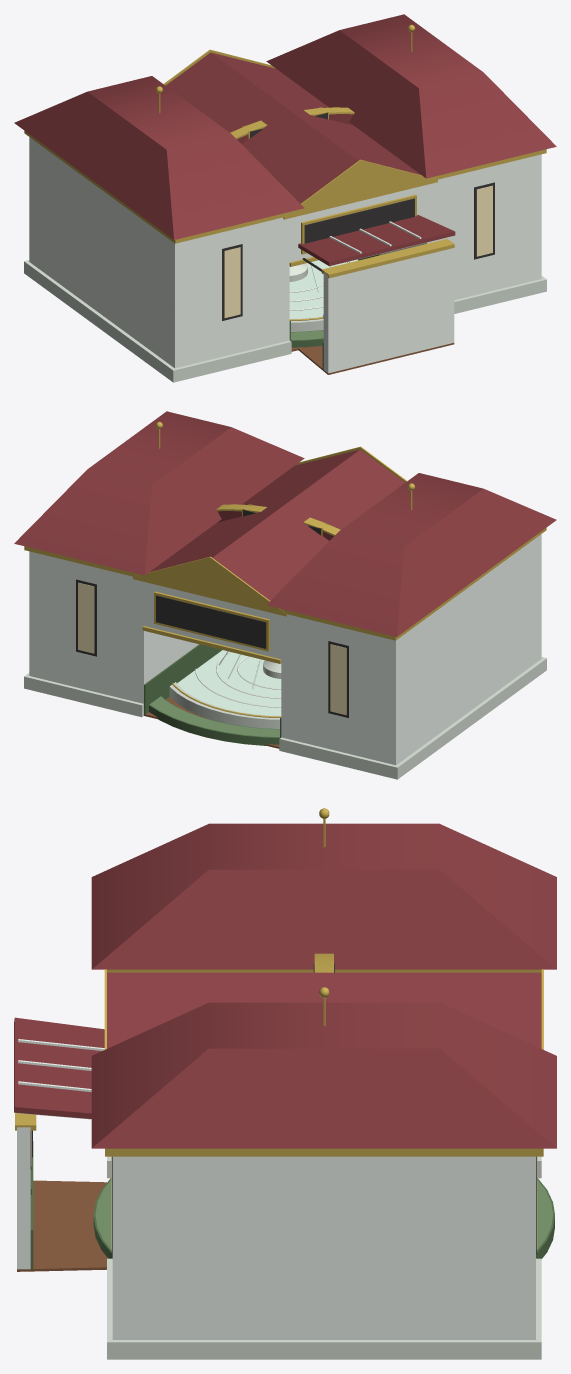
File: downs-arcade.glb
3 views of the same model, one above another, from view 1: azimuth 30°, elevation 25°; view 2: azimuth 150°, elevation 25°; view 3: azimuth 270°, elevation 25° (orthographic). The views are drawn at different scales.
Visible parts, largest first — view 1: dn_gate_hall_barn, dn_gate_hall_mint, dn_arcade_mint, dn_gate_hall_gold, dn_gate_hall_mint2, dn_arcade_barn, dn_gate_hall_black, dn_gate_hall_glasswarm, dn_fountain_glowmint, dn_arcade_gold, dn_fountain_mint2, dn_arcade_saddle2 (+1 smaller); view 2: dn_gate_hall_barn, dn_gate_hall_mint, dn_gate_hall_gold, dn_gate_hall_mint2, dn_fountain_glowmint, dn_gate_hall_black, dn_gate_hall_glasswarm, dn_fountain_mint2, dn_gate_hall_money2, dn_fountain_money2, dn_fountain_money, dn_gate_main_gold (+1 smaller); view 3: dn_gate_hall_barn, dn_gate_hall_mint, dn_gate_hall_mint2, dn_arcade_barn, dn_gate_hall_gold, dn_arcade_saddle2, dn_arcade_mint, dn_fountain_money, dn_fountain_money2.
Part boxes in pixels (x1,y1,x2,y2): dn_gate_hall_barn: [14, 14, 556, 239]; dn_gate_hall_mint: [29, 137, 541, 368]; dn_arcade_mint: [323, 221, 454, 373]; dn_gate_hall_gold: [24, 24, 546, 266]; dn_gate_hall_mint2: [24, 260, 546, 382]; dn_arcade_barn: [298, 215, 455, 266]; dn_gate_hall_black: [222, 182, 494, 320]; dn_gate_hall_glasswarm: [224, 185, 492, 318]; dn_fountain_glowmint: [289, 259, 358, 318]; dn_arcade_gold: [321, 239, 454, 278]; dn_fountain_mint2: [289, 263, 323, 331]; dn_arcade_saddle2: [297, 343, 454, 374]; dn_gate_hall_barn: [14, 411, 556, 636]; dn_gate_hall_mint: [29, 534, 541, 765]; dn_gate_hall_gold: [24, 421, 546, 663]; dn_gate_hall_mint2: [24, 657, 546, 779]; dn_fountain_glowmint: [177, 650, 281, 715]; dn_gate_hall_black: [76, 579, 348, 717]; dn_gate_hall_glasswarm: [78, 582, 346, 715]; dn_fountain_mint2: [169, 660, 281, 728]; dn_gate_hall_money2: [144, 644, 281, 738]; dn_fountain_money2: [149, 696, 279, 745]; dn_fountain_money: [150, 696, 279, 736]; dn_gate_main_gold: [216, 504, 340, 535]; dn_gate_hall_barn: [91, 823, 556, 1148]; dn_gate_hall_mint: [112, 1156, 535, 1339]; dn_gate_hall_mint2: [107, 1156, 541, 1359]; dn_arcade_barn: [14, 1017, 104, 1118]; dn_gate_hall_gold: [104, 808, 543, 1156]; dn_arcade_saddle2: [17, 1180, 107, 1271]; dn_arcade_mint: [17, 1039, 104, 1269]; dn_fountain_money: [95, 1180, 552, 1249]; dn_fountain_money2: [93, 1178, 554, 1258].
Size of the model in its own units: 33.4 by 21.32 by 28.24.
